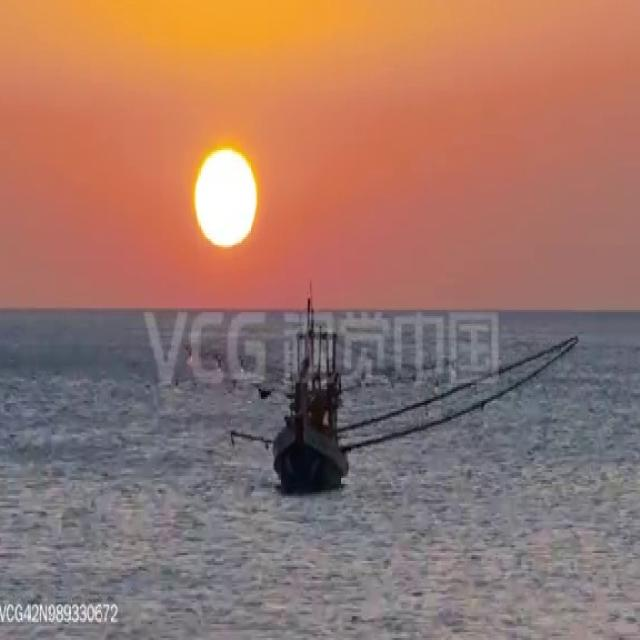houseboat: (272, 303, 349, 488)
